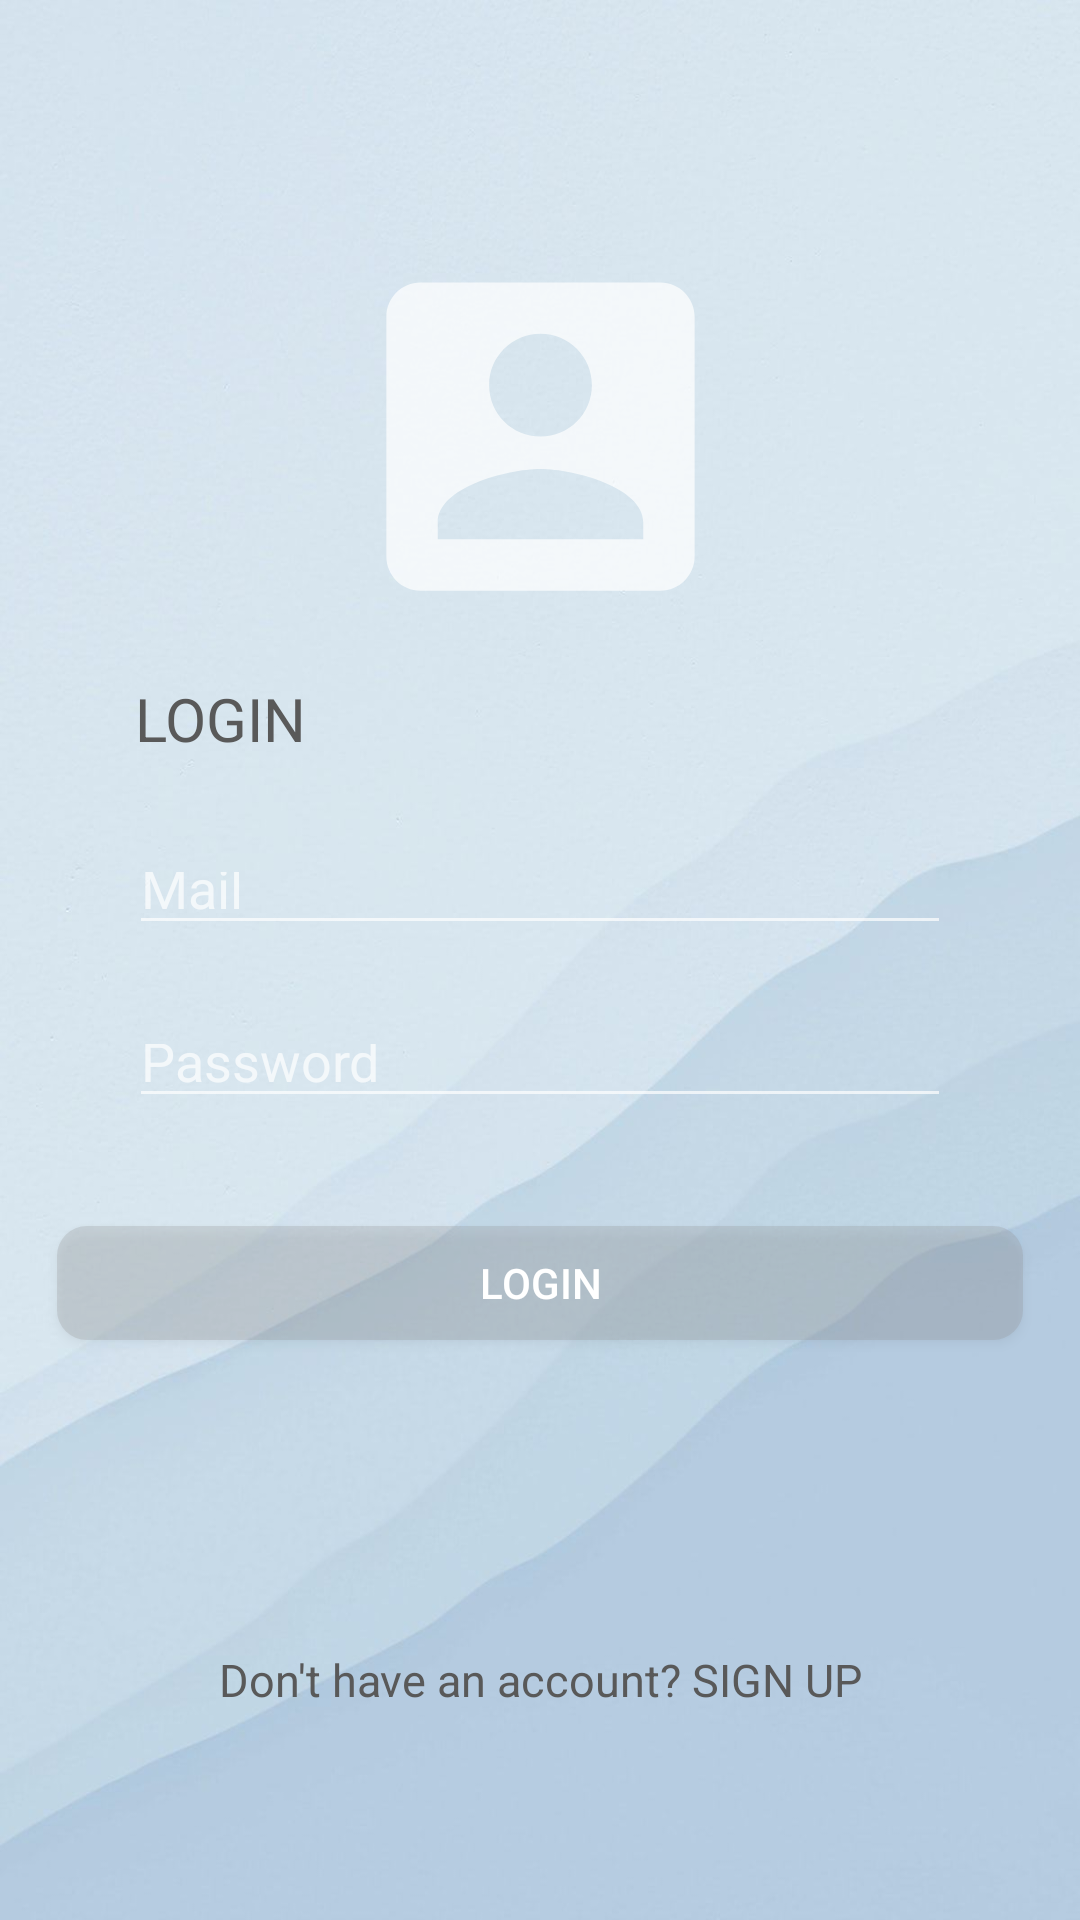

Screen size 1080 × 1920. Icon name, then its center in pixels as point (x, y):
account box: point (540, 437)
